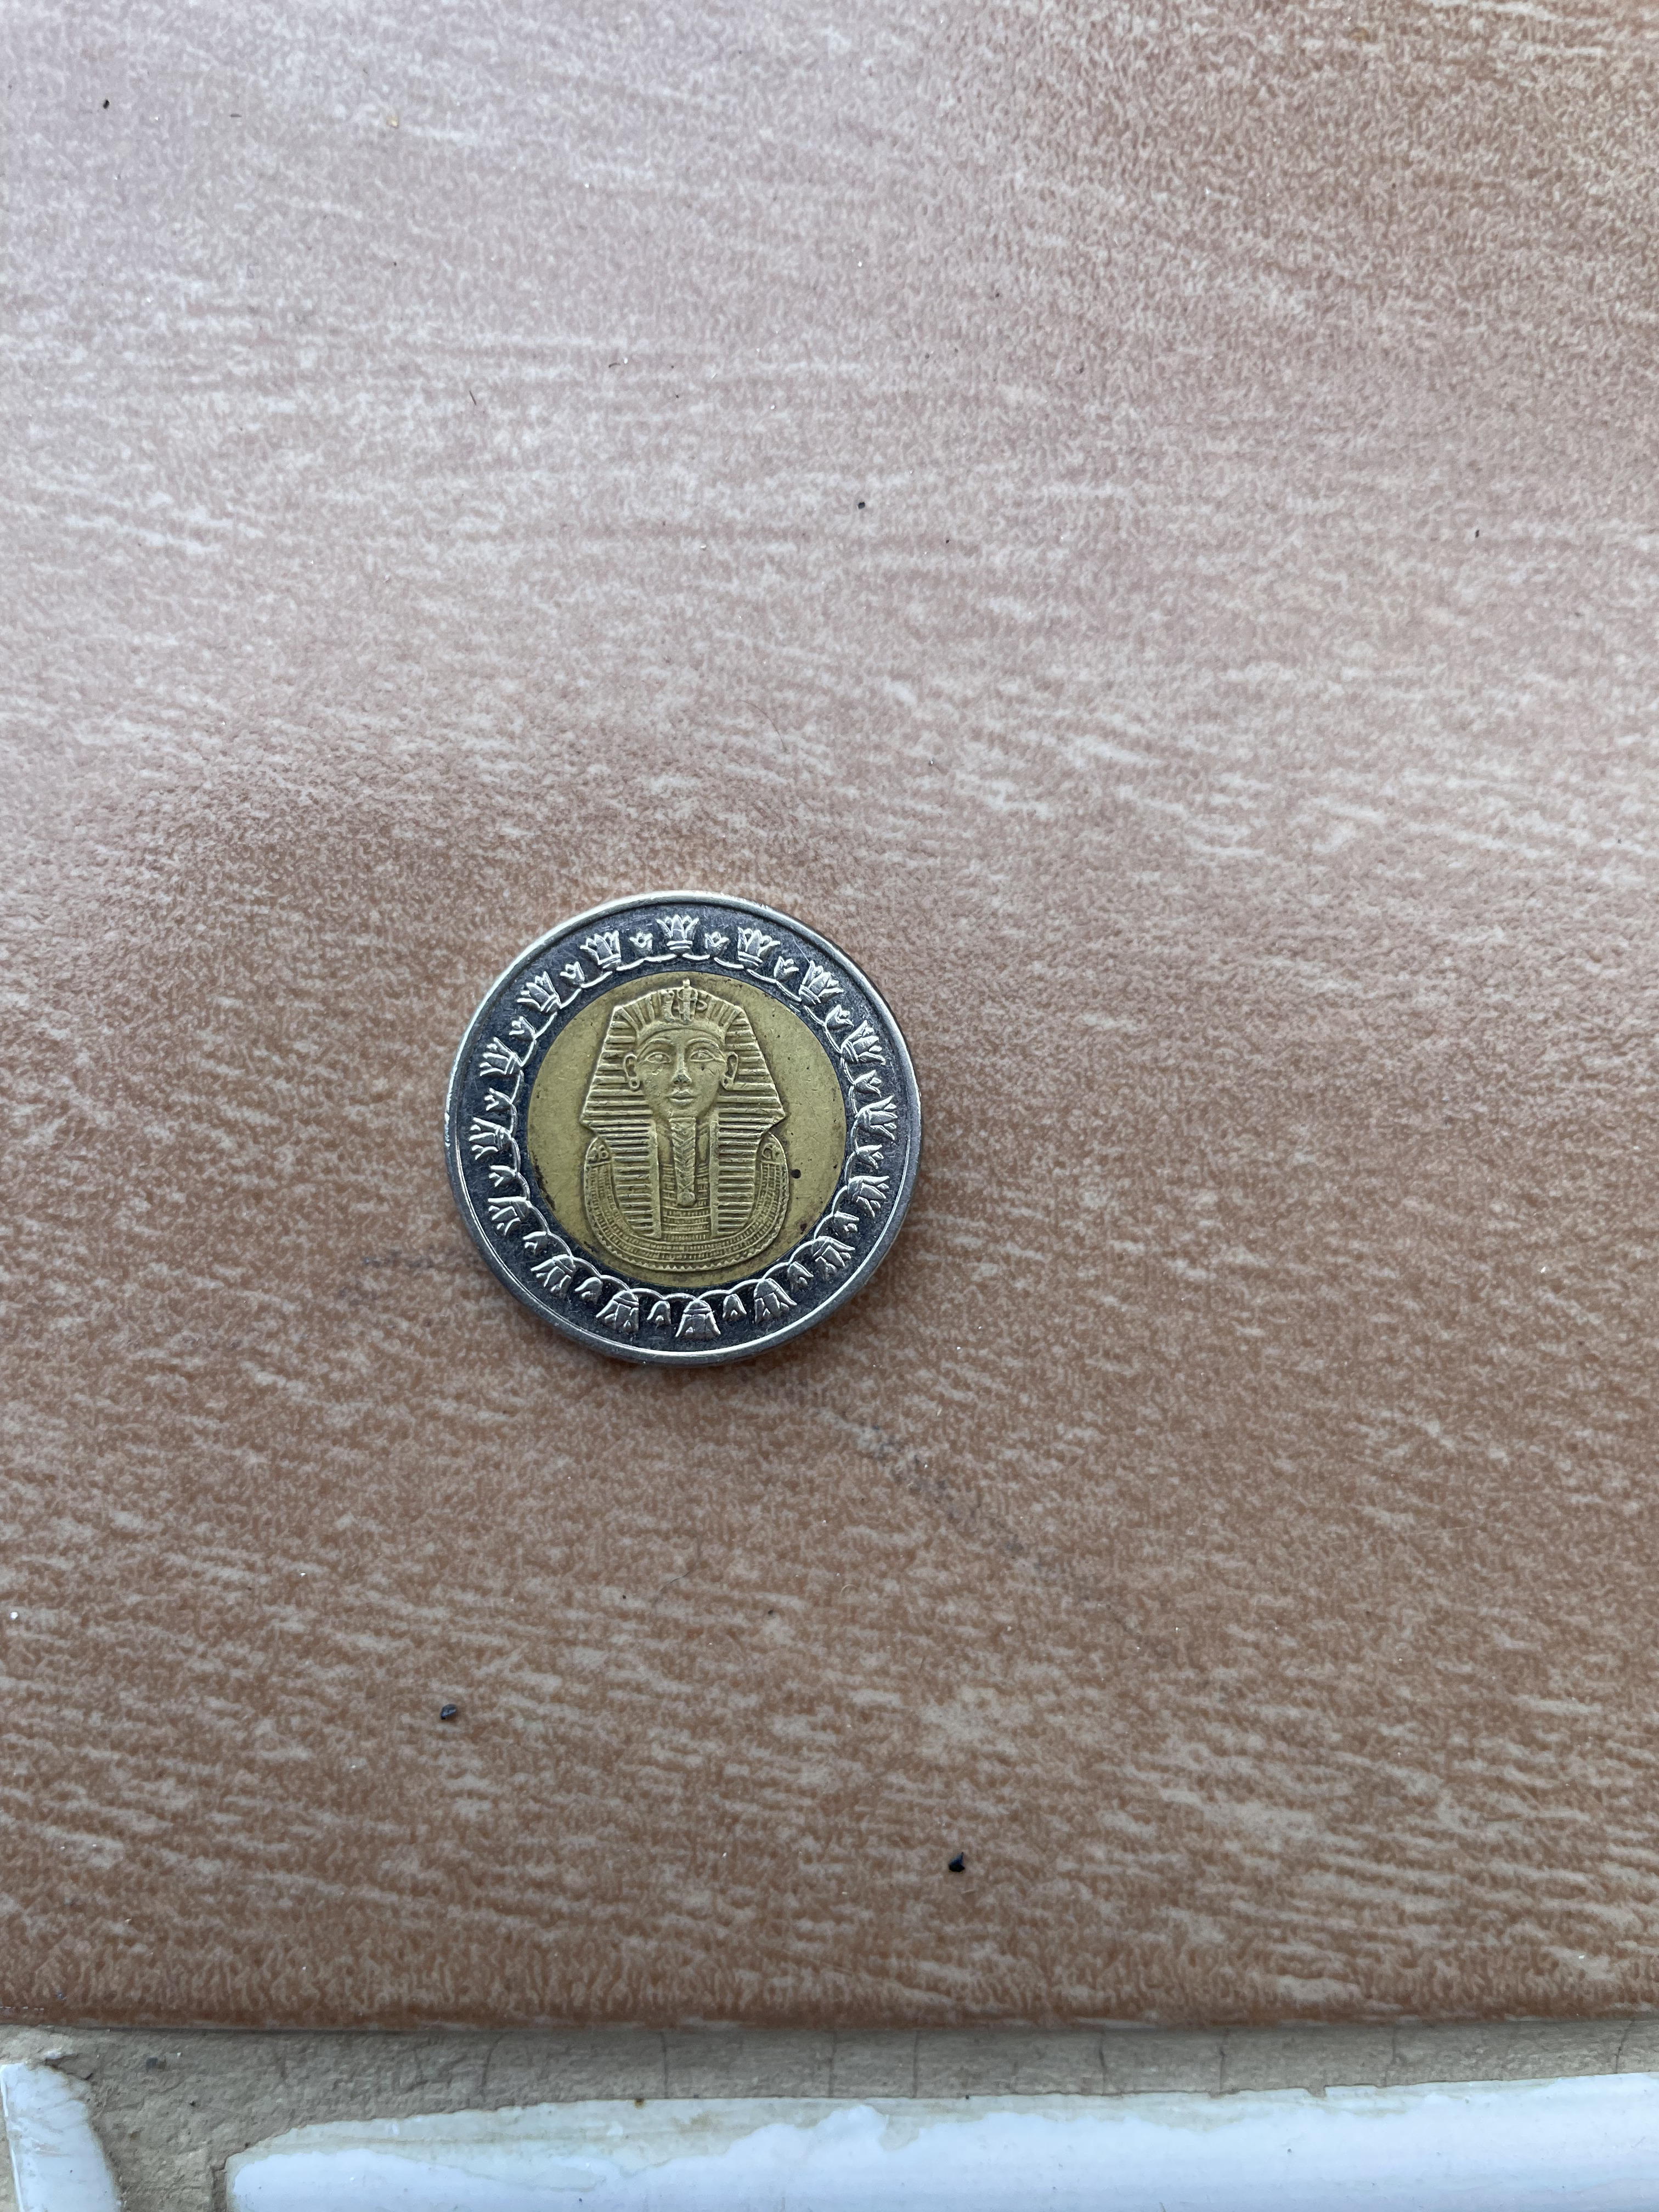one: (420, 878, 943, 1388)
